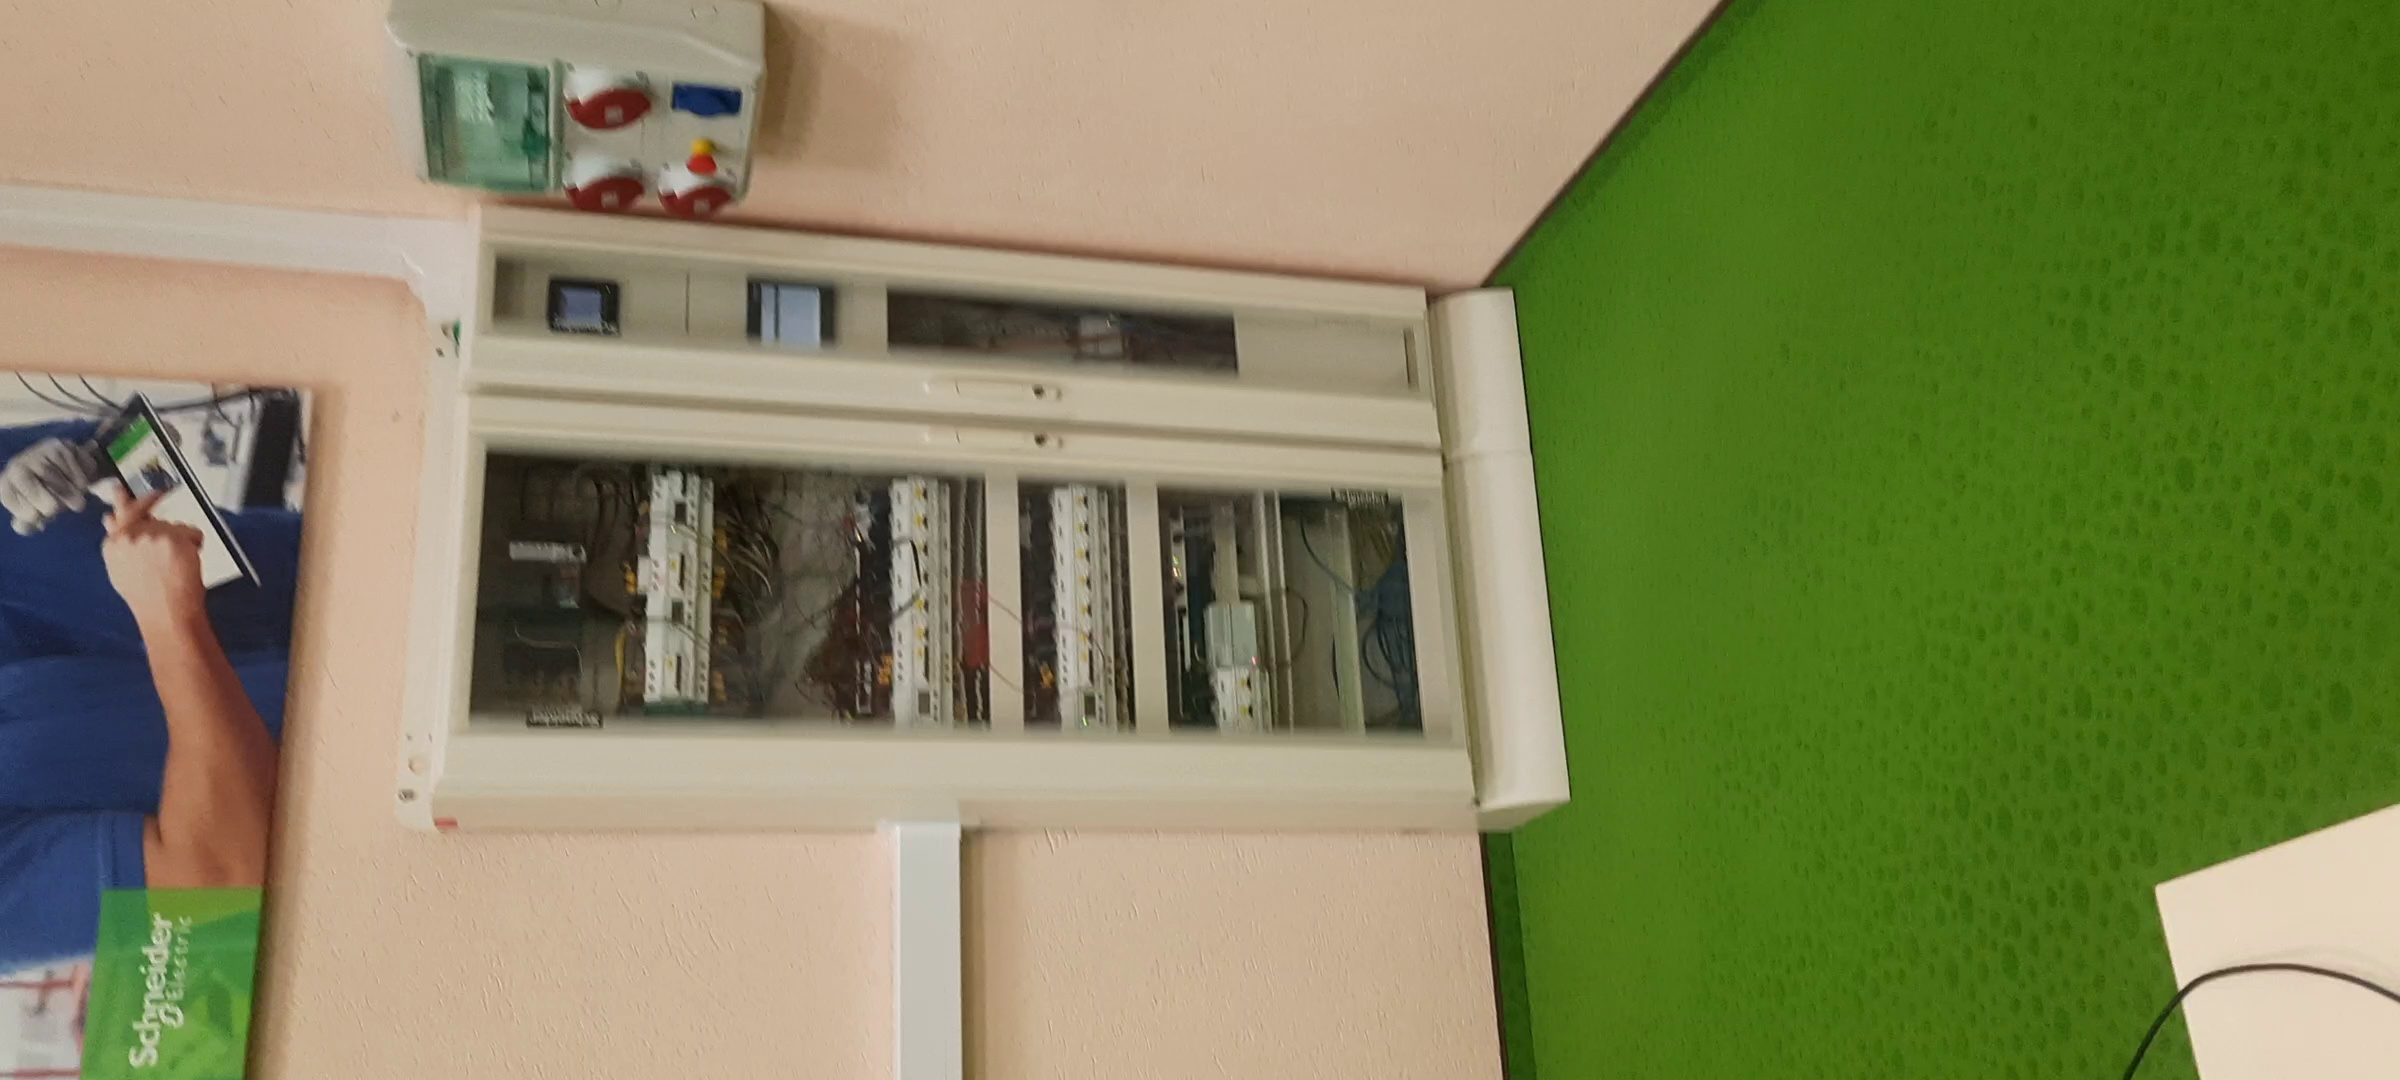stand1: (429, 229, 1569, 826)
